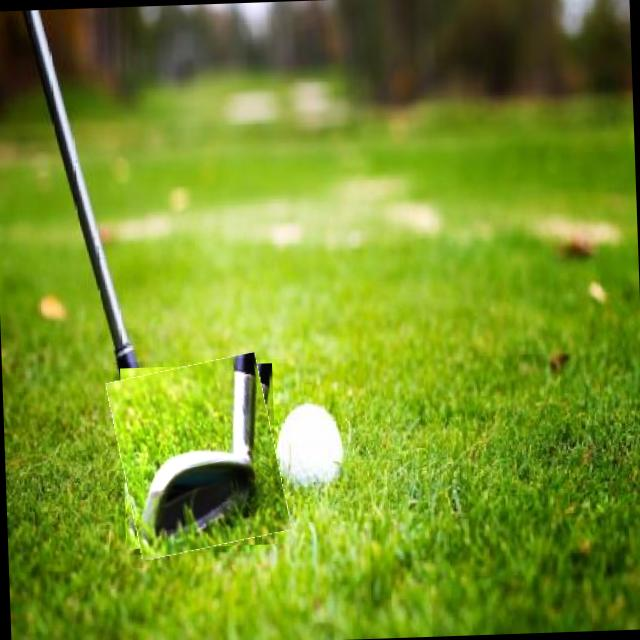club head: (112, 357, 285, 556)
